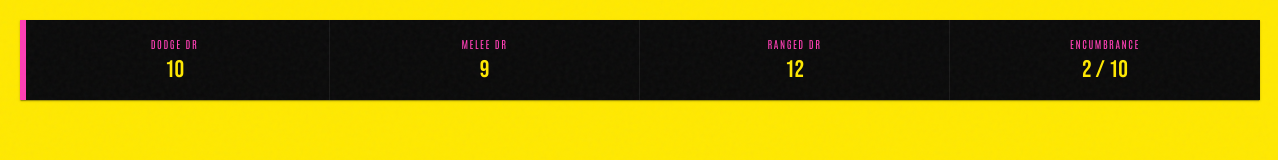
Test case: SummaryBar Browser › opens the detail popper when a stat button is clicked
Click the button "Dodge DR 10": (175, 60) [20,20,330,100]
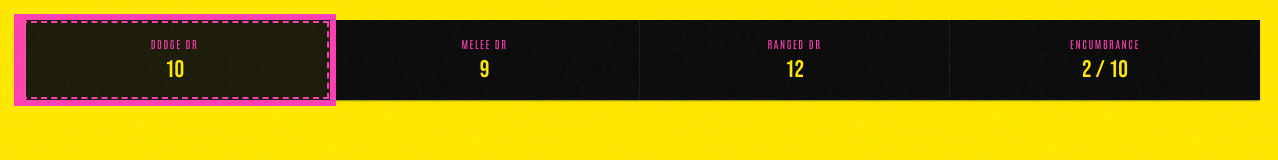
Check: the button "Dodge DR 10" is expanded, box [20,20,330,100]
